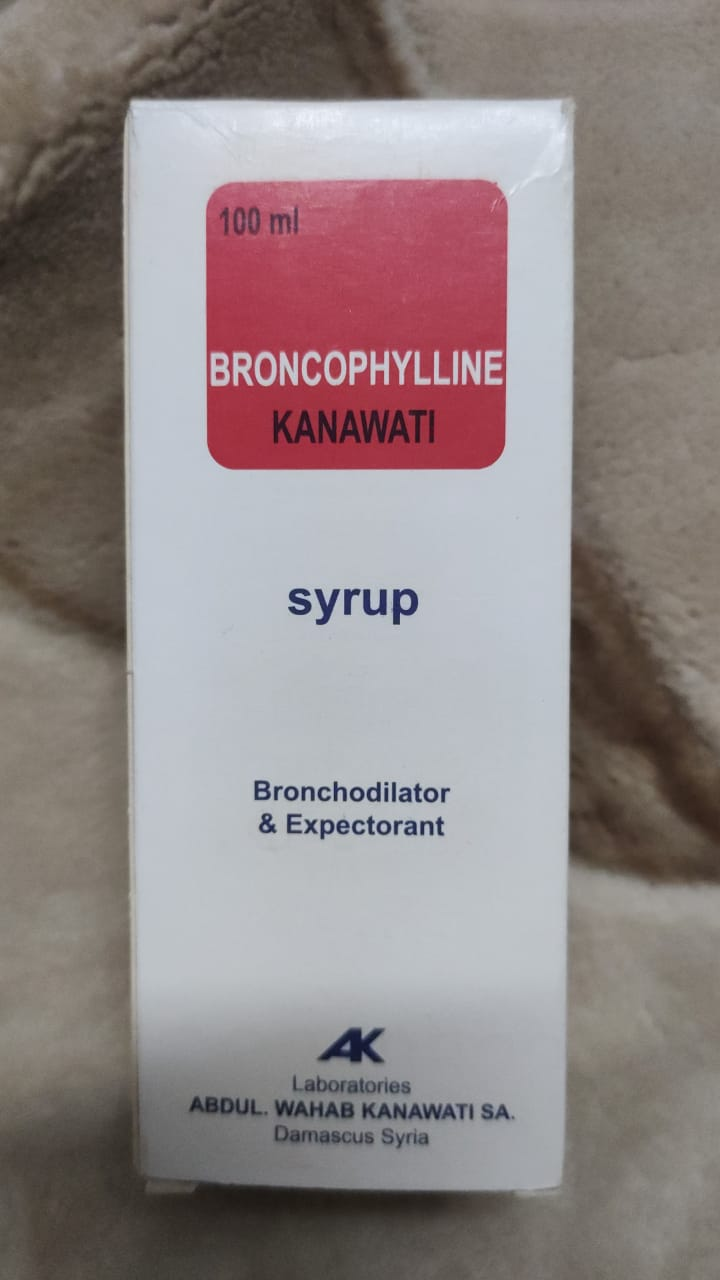Medicine: (113, 80, 580, 1223)
